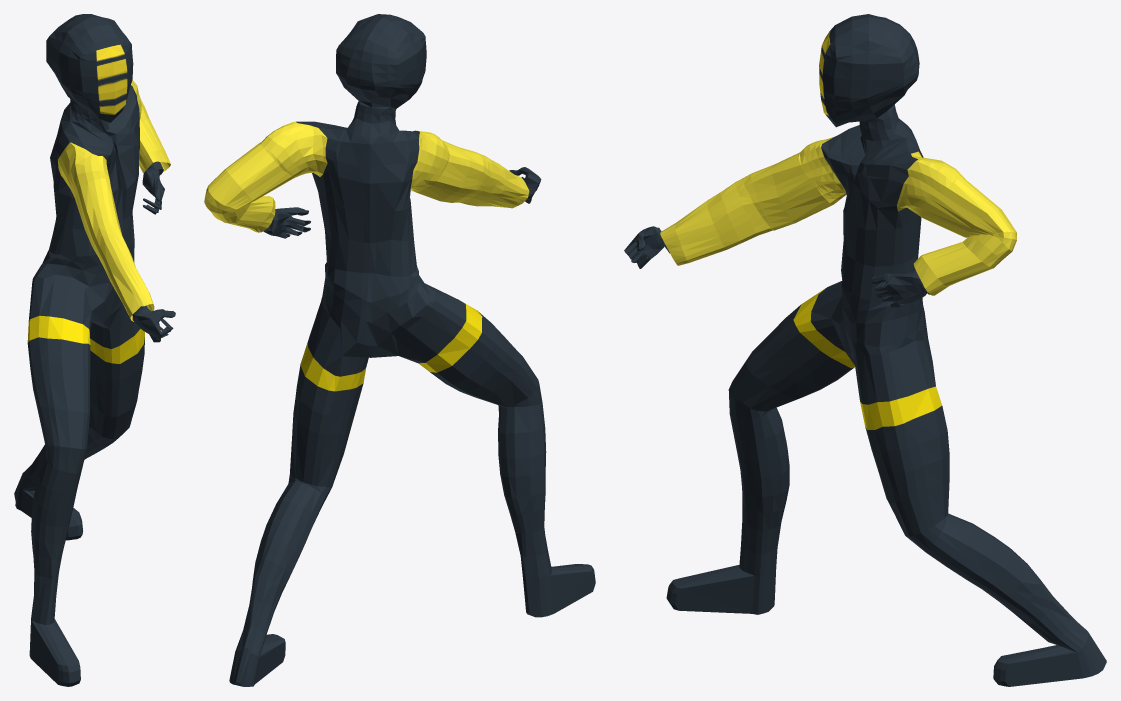
The model's file is Sentry_WL_000013.obj.
The picture shows the model from 3 angles, left to right: view 1: azimuth 30°, elevation 25°; view 2: azimuth 150°, elevation 25°; view 3: azimuth 270°, elevation 25°; orthographic projection. The views are drawn at different scales.
Parts seen in each view (by area): view 1: Cube; view 2: Cube; view 3: Cube.
Boxes of the visible parts, x1,y1,x2,y2 form: Cube: [14, 14, 175, 686]; Cube: [204, 14, 595, 686]; Cube: [624, 14, 1106, 686].
Bounding box in the file's own units: 1.47 × 3.6 × 2.44.
